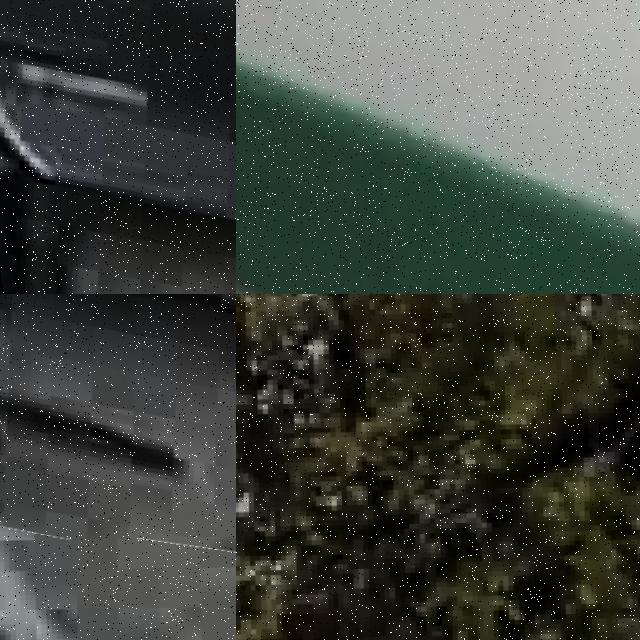0: (0, 0, 236, 294), (0, 294, 236, 545)
drone: (236, 0, 640, 294)
